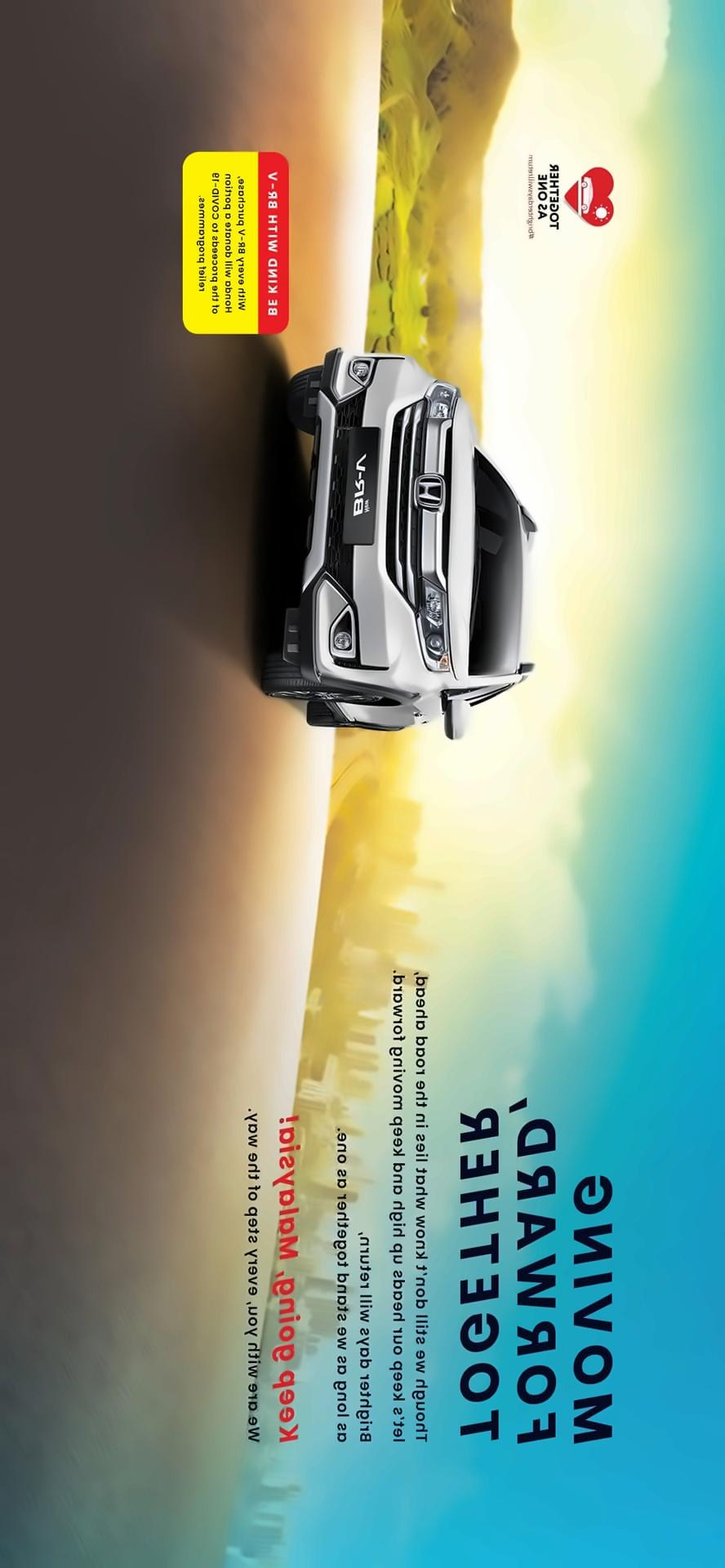Car hood: (445, 392, 481, 685)
Front bumper: (293, 338, 424, 705)
Headlight - -L-: (412, 569, 457, 681)
Headlight - -R-: (420, 372, 463, 425)
Side mirror - -L-: (440, 692, 478, 756)
